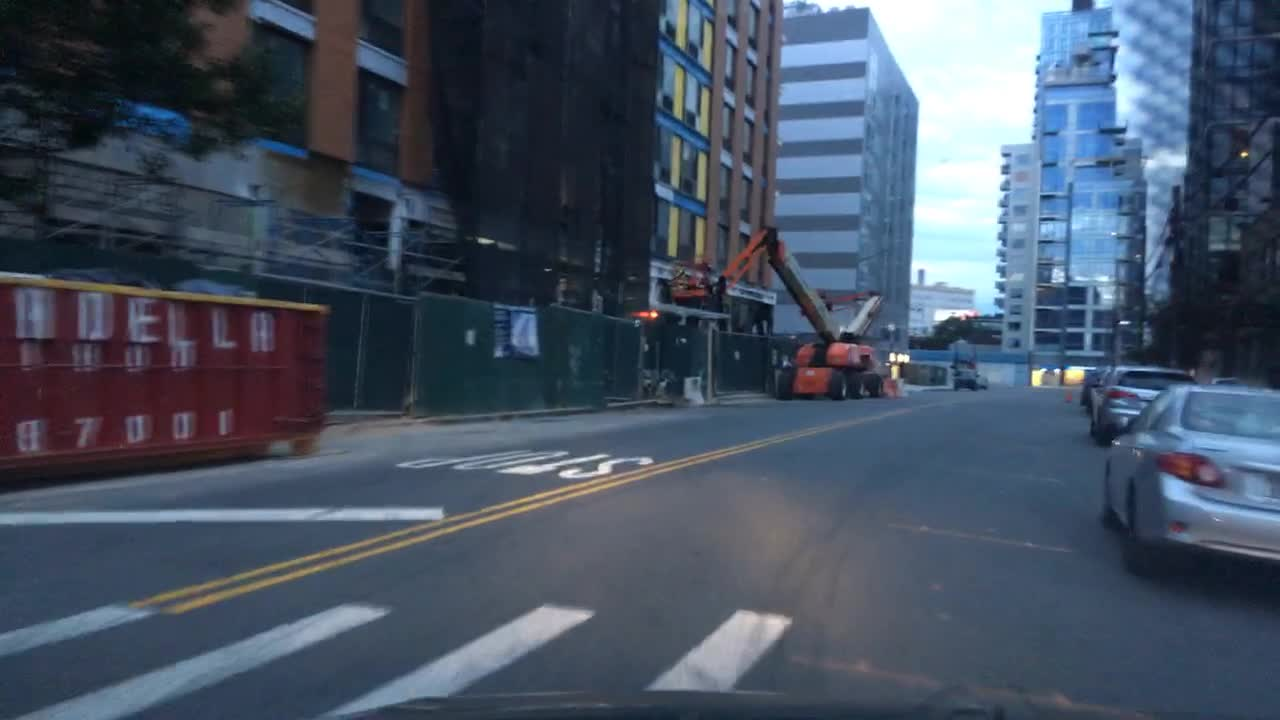car: (664, 225, 885, 402), (1101, 381, 1278, 576), (1089, 365, 1197, 446), (1079, 368, 1135, 408), (946, 360, 977, 391), (977, 369, 990, 387)
